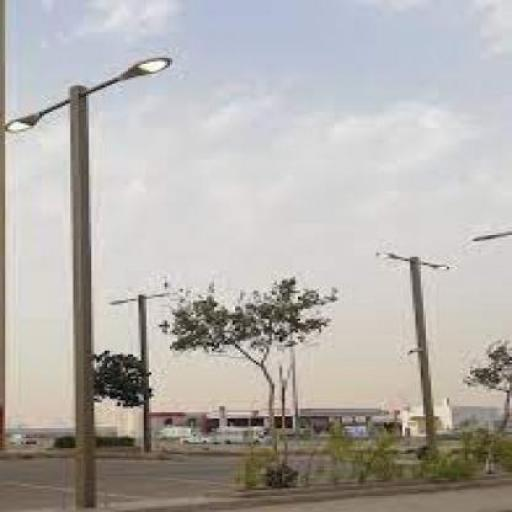street light: (2, 56, 172, 510), (376, 249, 450, 464), (107, 290, 167, 450)
